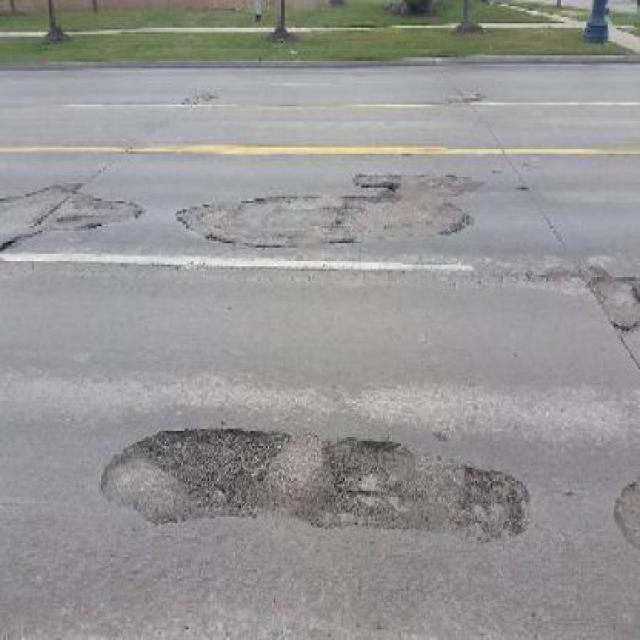Pothole: (140, 428, 292, 504), (322, 429, 411, 521), (457, 458, 527, 538), (380, 176, 401, 200)
